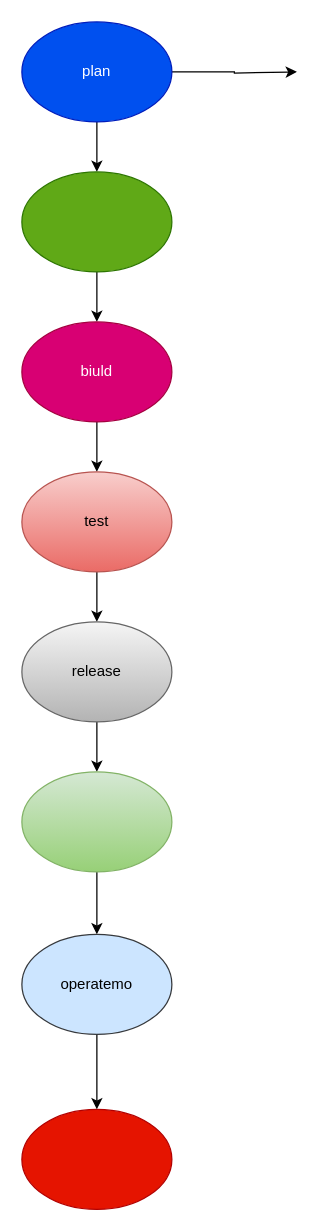
The diagram is 329 pixels wide and 1231 high, and some of its shapes have lost their labels. Here are the shapes that lost their labels. From the top down, the centre of each, then its label:
At (x=96, y=221): "develop".
At (x=96, y=821): "deploy".
At (x=96, y=1158): "monitor".
